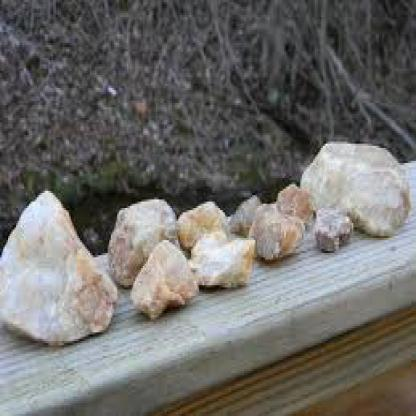Metamorphic_Quartize: (2, 171, 112, 369), (302, 135, 414, 242), (102, 188, 186, 274), (243, 195, 310, 277), (132, 242, 194, 320), (194, 227, 254, 294), (314, 202, 356, 260)
